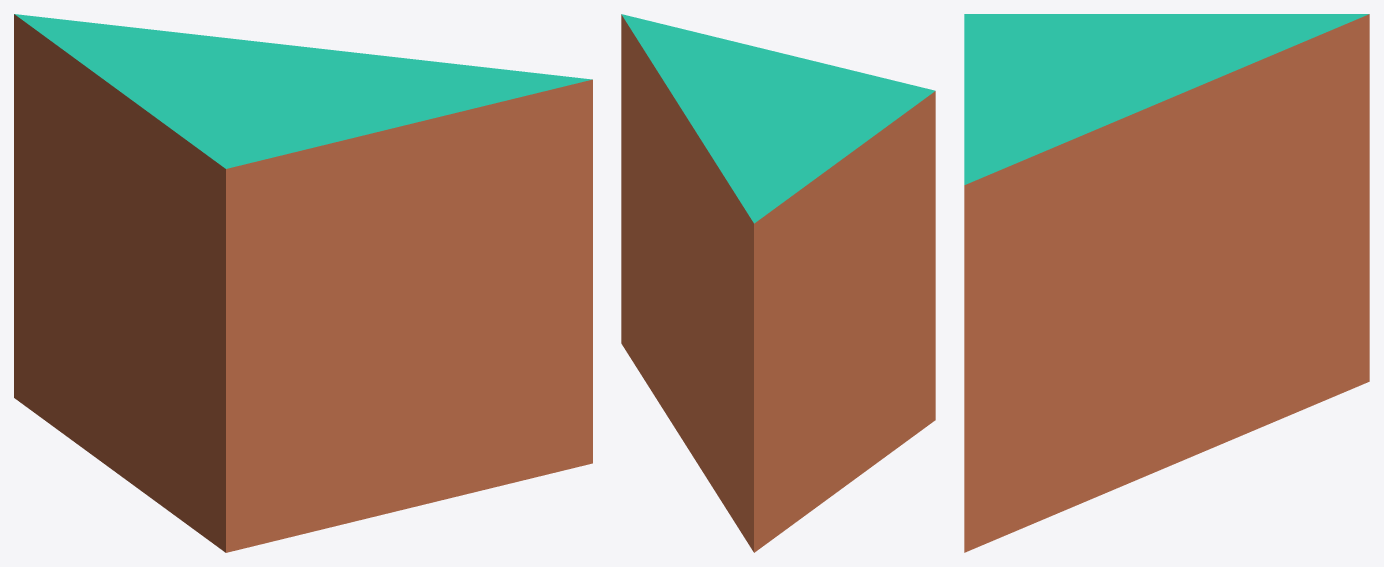
Rendered from cliff_blockDiagonal_rock.glb.
3 renders of one model, left to right at view 1: azimuth 30°, elevation 25°; view 2: azimuth 150°, elevation 25°; view 3: azimuth 270°, elevation 25°, orthographic. The views are drawn at different scales.
Visible parts, largest first — view 1: cliff_blockDiagonal_rock; view 2: cliff_blockDiagonal_rock; view 3: cliff_blockDiagonal_rock.
Boxes of the visible parts, x1=… form: cliff_blockDiagonal_rock: x1=14, y1=14, x2=592, y2=552; cliff_blockDiagonal_rock: x1=621, y1=14, x2=935, y2=552; cliff_blockDiagonal_rock: x1=964, y1=14, x2=1369, y2=552.
Size of the model in its own units: 1 by 1 by 1.
